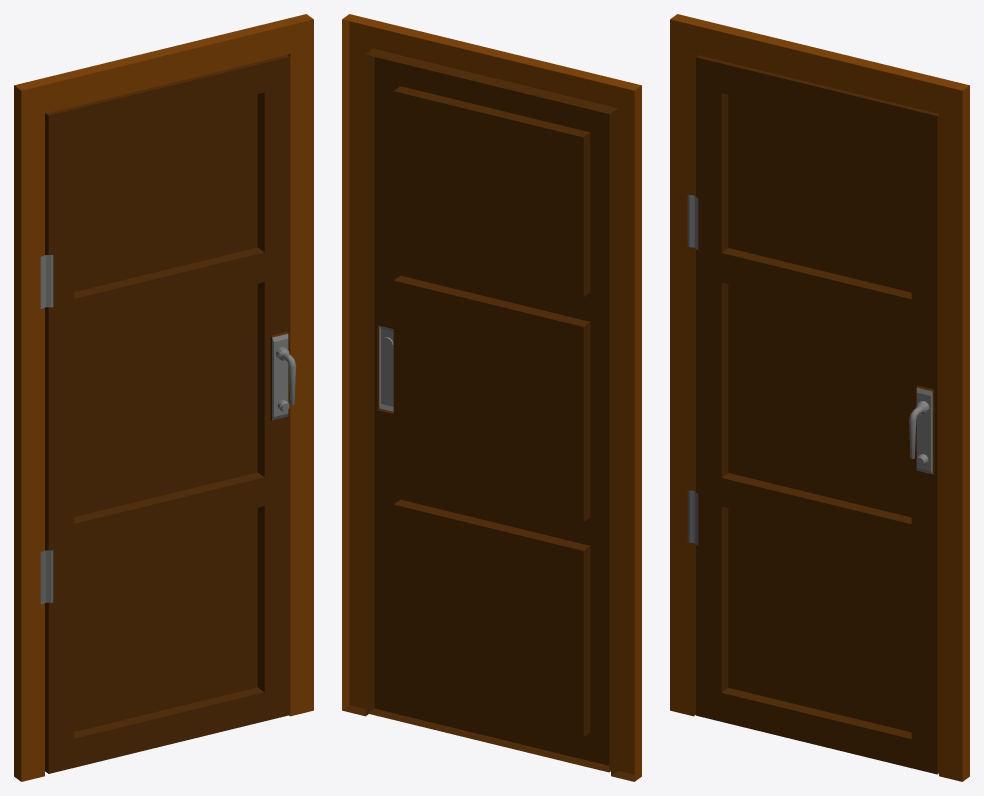
File: door.dae
3 views of the same model, side by side, from view 1: azimuth 30°, elevation 25°; view 2: azimuth 150°, elevation 25°; view 3: azimuth 330°, elevation 25° (orthographic).
Parts seen in each view (by area): view 1: Door; view 2: Door; view 3: Door.
Boxes of the visible parts, bbox=[...] form: Door: bbox=[14, 14, 313, 781]; Door: bbox=[342, 14, 641, 781]; Door: bbox=[670, 14, 969, 781].
Size of the model in its own units: 6.66 by 0.9246 by 15.04.
1 material, 1 textured.
